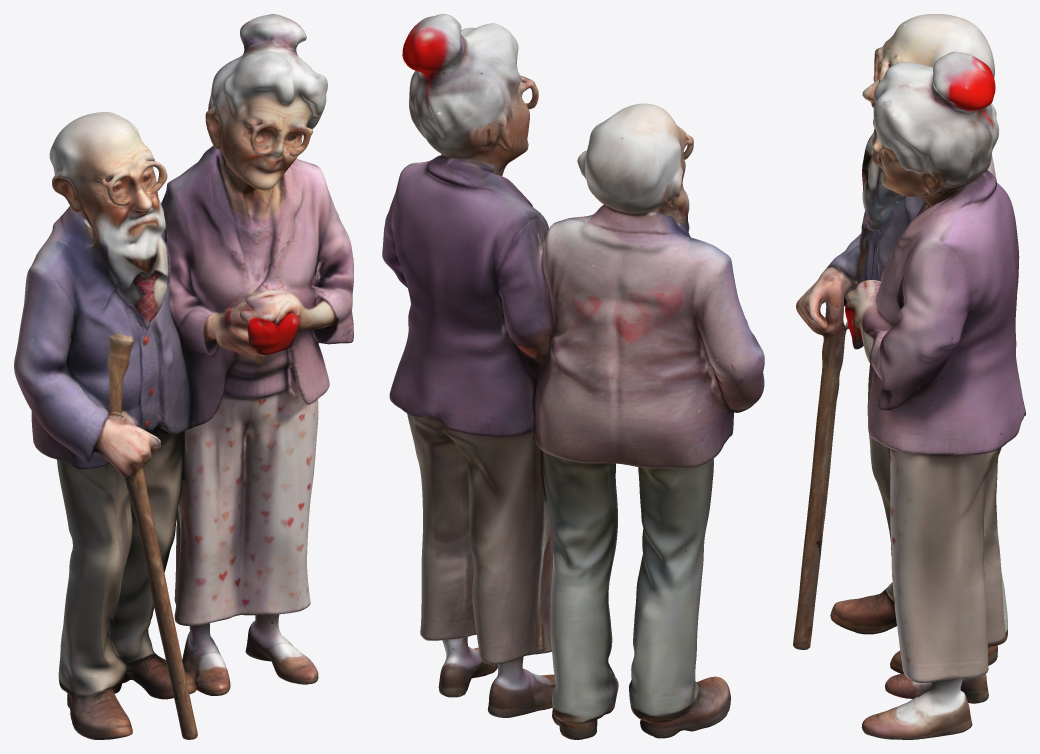
The model's file is A_very_old_man_with_a_0217121952.fbx.
The picture shows the model from 3 angles, left to right: view 1: azimuth 30°, elevation 25°; view 2: azimuth 150°, elevation 25°; view 3: azimuth 270°, elevation 25°; orthographic projection. The views are drawn at different scales.
Parts seen in each view (by area): view 1: Mesh_0; view 2: Mesh_0; view 3: Mesh_0.
Boxes of the visible parts, box(x1,y1,x2,y2) form: Mesh_0: box(14, 14, 353, 739); Mesh_0: box(382, 14, 764, 739); Mesh_0: box(793, 14, 1025, 739).
Bounding box in the file's own units: 111 × 200 × 62.2.
Materials: 1 (1 with a texture image).
